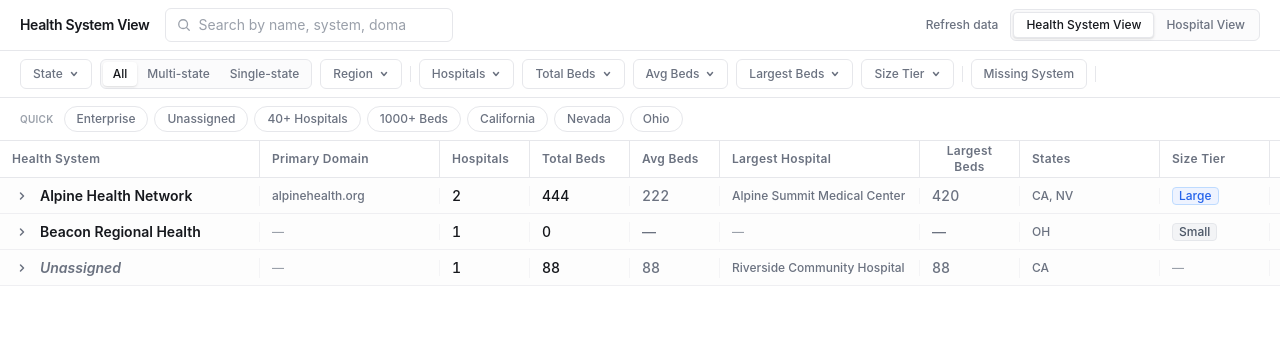
Test: shows empty state when filters produce no results (VAL-FILTER-057)
Expected: the table named "Health System View" is shown, [0, 141, 1279, 286]
Click the button "Hospital View": (1206, 25) [1154, 13, 1257, 37]
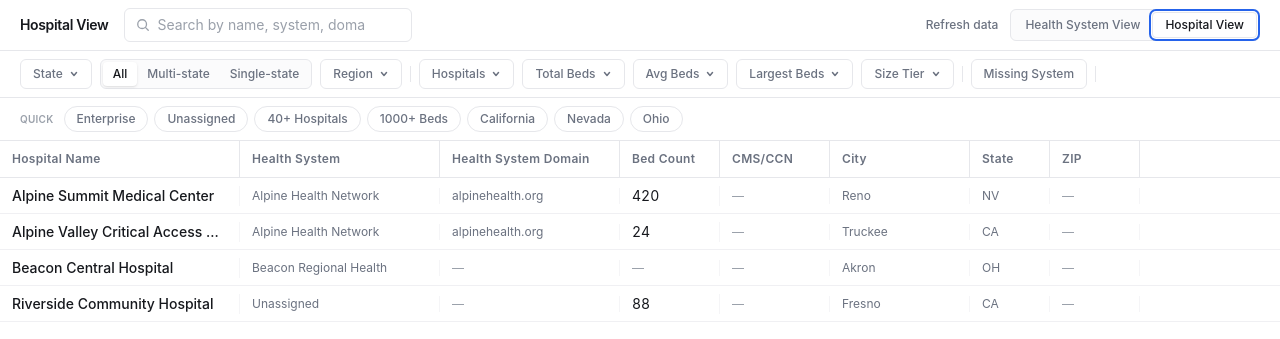
Now the table named "Hospital View" is shown, box [0, 141, 1279, 322]
Click the 1st button "State": (56, 74) [20, 59, 92, 89]
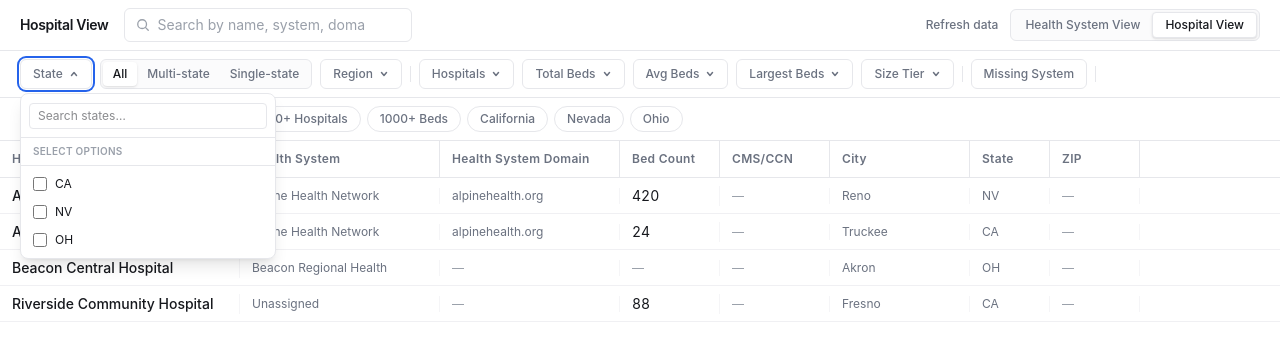
Click the text "OH" below "Select options": (64, 240) [55, 232, 73, 248]
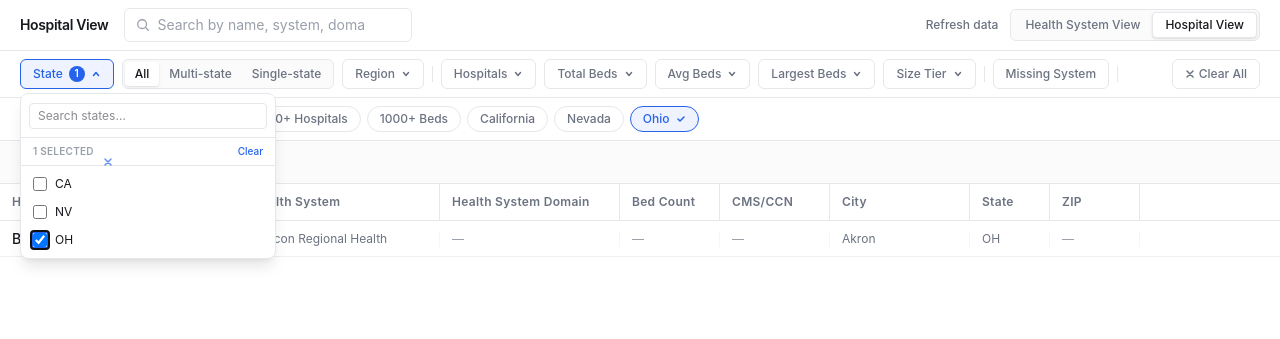
Click the button "Missing System": (1051, 74) [992, 59, 1109, 89]
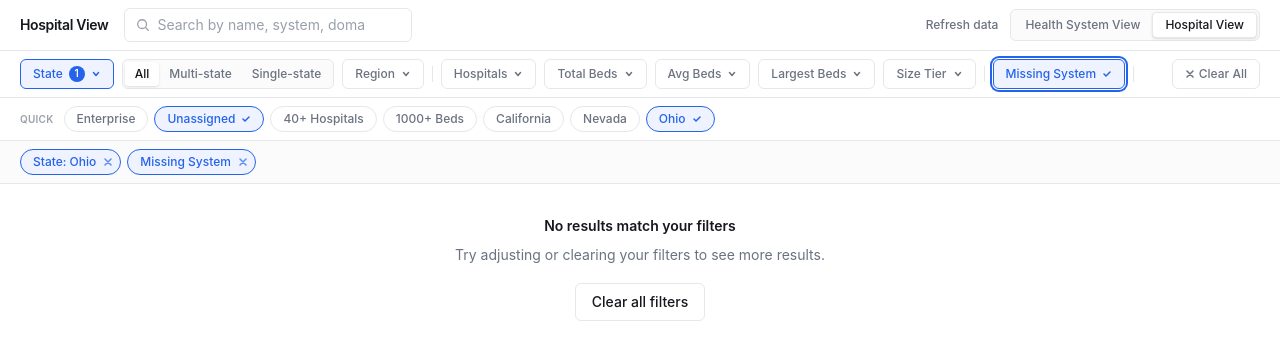
Now the text "No results match your filters" is shown, box [544, 217, 736, 234]
Now the button "Clear all filters" is shown, box [575, 283, 705, 321]
